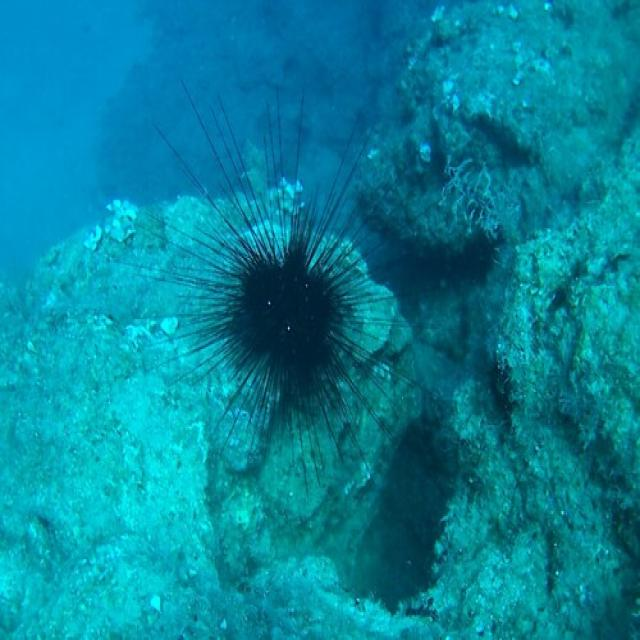Urchin: (125, 86, 422, 480)
